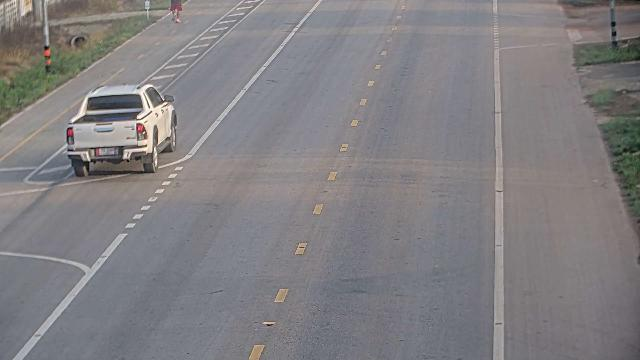pickup-truck: (65, 82, 178, 177)
